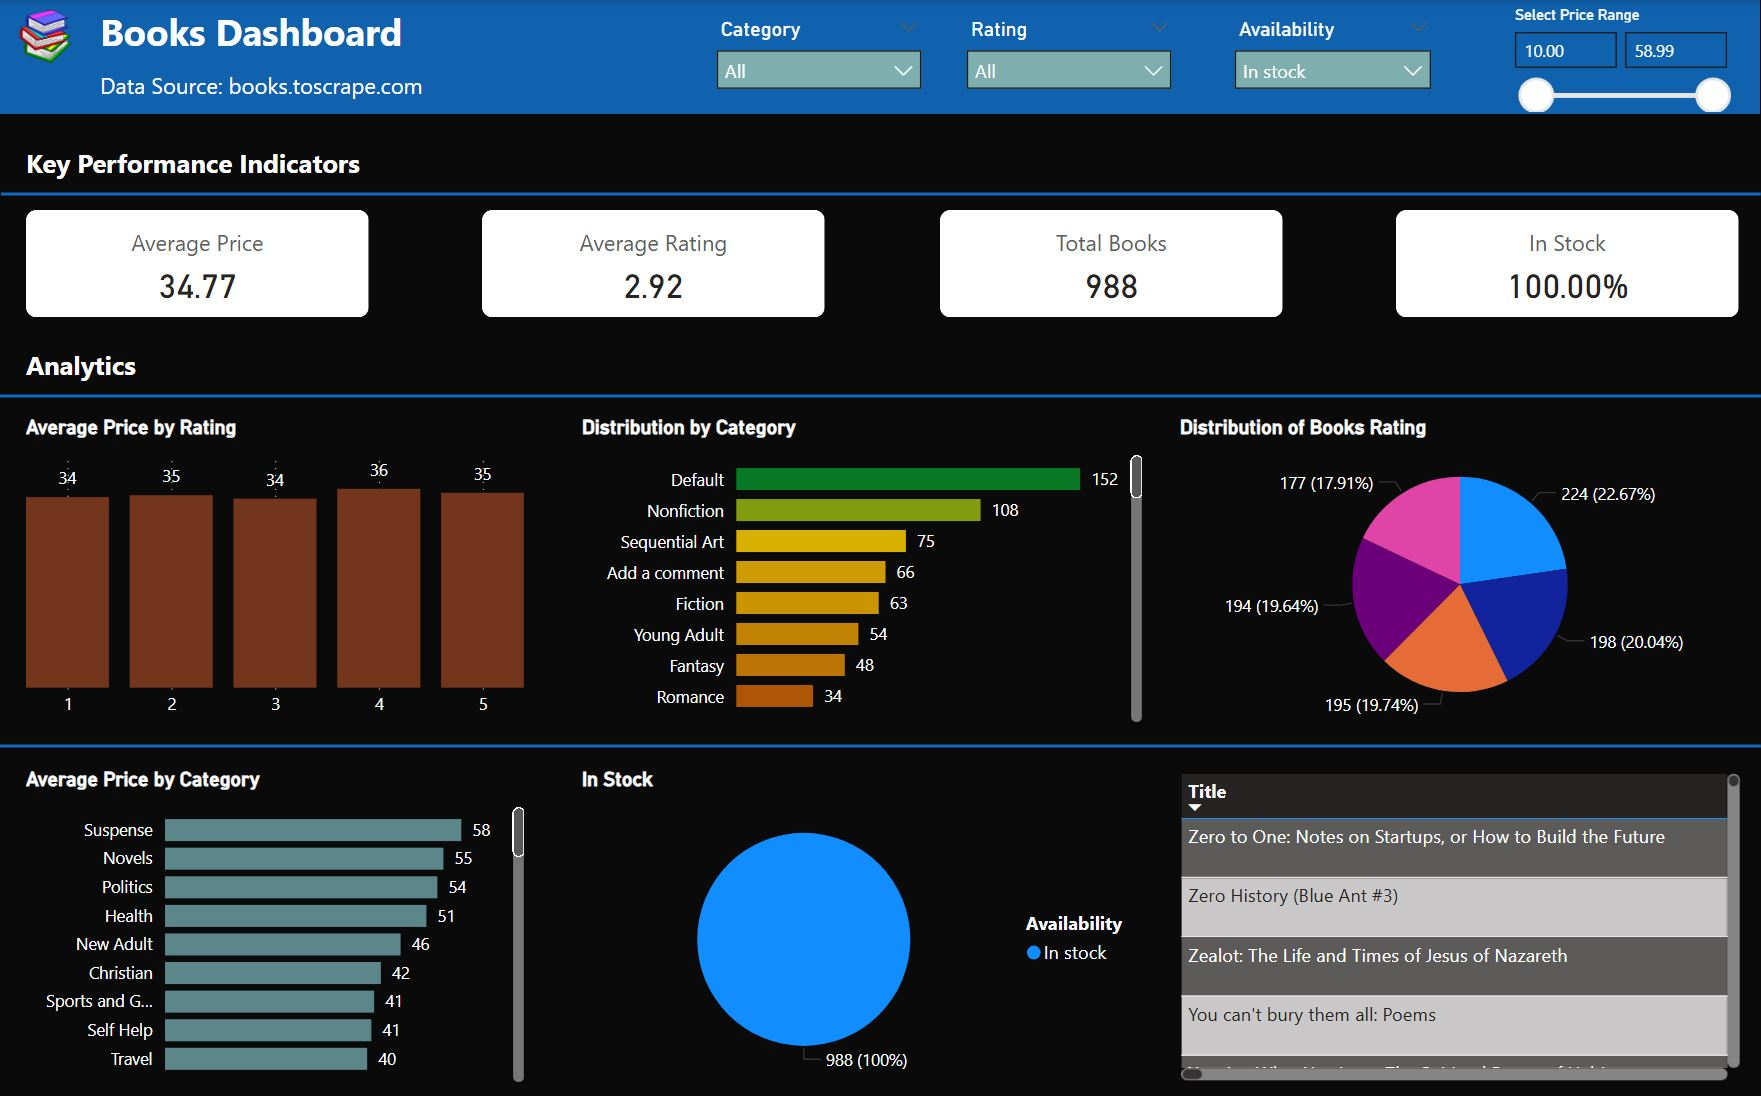

The dashboard page shown, as its layout file describes it:
{"tool":"powerbi","page":{"name":"Dashboard","canvas":[1280,800],"ordinal":0},"visuals":[{"type":"pieChart","title":"In Stock","fields":{"Category":["books_data.Availability"],"Y":["CountNonNull(books_data.Title)"]},"box":[419.6,557.5,418.1,233.8],"z":0},{"type":"clusteredBarChart","title":"Distribution by Category","fields":{"Category":["books_data.Category"],"Y":["CountNonNull(books_data.Title)"]},"box":[419.6,302,416.7,227.9],"z":1000},{"type":"clusteredBarChart","title":"Average Price by Category","fields":{"Category":["books_data.Category"],"Y":["Avg(books_data.Price (£))"]},"box":[16,557.5,371.7,233.8],"z":2000},{"type":"pieChart","title":"Distribution of Books Rating","fields":{"Category":["books_data.Rating"],"Y":["CountNonNull(books_data.Title)"]},"box":[853.7,302,416.7,229.4],"z":3000},{"type":"clusteredColumnChart","title":"Average Price by Rating","fields":{"Category":["books_data.Rating"],"Y":["Avg(books_data.Price (£))"]},"box":[16,302,371.7,227.9],"z":4000},{"type":"shape","box":[0,0,1280,83.4],"z":5000},{"type":"textbox","box":[69.8,0,288.2,48.5],"z":6000},{"type":"image","box":[0,3,69.8,48.5],"z":7000},{"type":"textbox","box":[69.8,47,280.6,36.4],"z":8000},{"type":"textbox","box":[16,101.6,288.9,46.5],"z":9000},{"type":"cardVisual","fields":{"Data":["Avg(books_data.Price (£))"]},"box":[16,148.1,259.9,88.6],"z":10000},{"type":"cardVisual","fields":{"Data":["Avg(books_data.Rating)"]},"box":[347.5,148.1,259.9,88.6],"z":11000},{"type":"cardVisual","fields":{"Data":["CountNonNull(books_data.Title)"]},"box":[679,148.1,259.9,88.6],"z":12000},{"type":"cardVisual","fields":{"Data":["books_data.In Stock"]},"box":[1010.5,148.1,259.9,88.6],"z":13000},{"type":"textbox","box":[16,248.3,259.9,34.8],"z":14000},{"type":"tableEx","fields":{"Values":["books_data.Title","books_data.Price (£)","books_data.Rating","books_data.Availability","books_data.Category","books_data.Description"]},"box":[853.7,557.5,416.7,232.3],"z":15000},{"type":"shape","box":[2.3,130.7,1277.7,21.8],"z":16000},{"type":"shape","box":[0,277.3,1280.6,21.8],"z":17000},{"type":"shape","box":[0,531.4,1280.6,21.8],"z":17001}]}

Visuals, with their boxes in screenshot pixels (x1, y1, x2, y2), scaled from the page's 1280x800 canvas onto the 1761x1096 screenshot:
"In Stock" pieChart: select_region(577, 764, 1152, 1084)
"Distribution by Category" clusteredBarChart: select_region(577, 414, 1151, 726)
"Average Price by Category" clusteredBarChart: select_region(22, 764, 533, 1084)
"Distribution of Books Rating" pieChart: select_region(1175, 414, 1748, 728)
"Average Price by Rating" clusteredColumnChart: select_region(22, 414, 533, 726)
shape: select_region(0, 0, 1760, 114)
textbox: select_region(96, 0, 493, 66)
image: select_region(0, 4, 96, 71)
textbox: select_region(96, 64, 482, 114)
textbox: select_region(22, 139, 419, 203)
cardVisual - Avg(books_data.Price (£)): select_region(22, 203, 380, 324)
cardVisual - Avg(books_data.Rating): select_region(478, 203, 836, 324)
cardVisual - CountNonNull(books_data.Title): select_region(934, 203, 1292, 324)
cardVisual - books_data.In Stock: select_region(1390, 203, 1748, 324)
textbox: select_region(22, 340, 380, 388)
tableEx - books_data.Title x books_data.Price (£): select_region(1175, 764, 1748, 1082)
shape: select_region(3, 179, 1760, 209)
shape: select_region(0, 380, 1760, 410)
shape: select_region(0, 728, 1760, 758)
